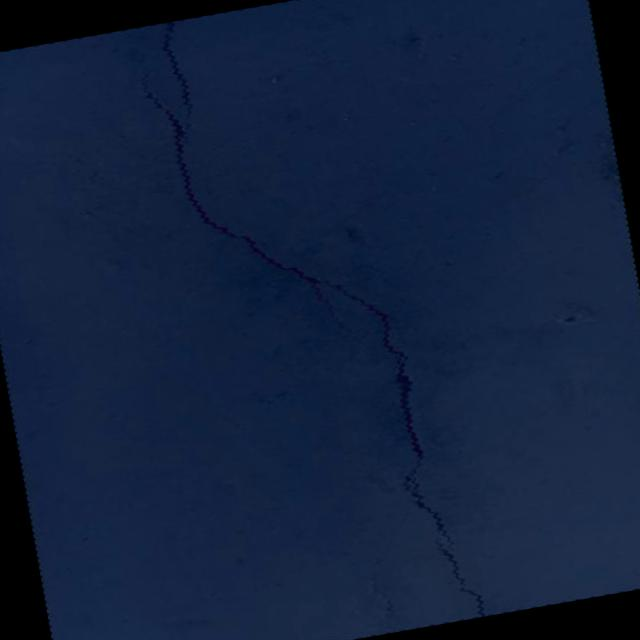crack: (139, 27, 486, 640), (158, 20, 197, 131), (366, 551, 399, 634), (385, 510, 414, 542)
